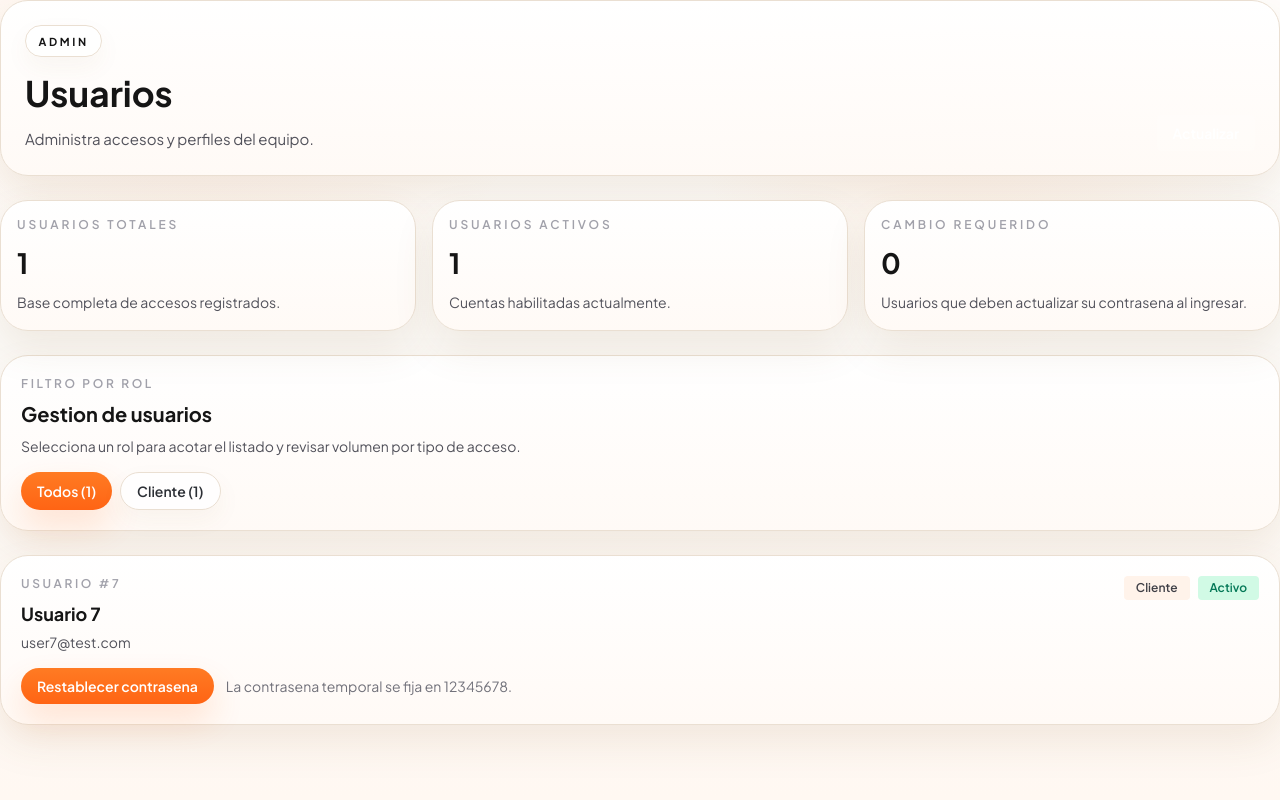
UsersPage › restablece la contrasena del usuario y actualiza la card al instante
Click the button "Restablecer contrasena" at (117, 686), box [21,668,214,704]
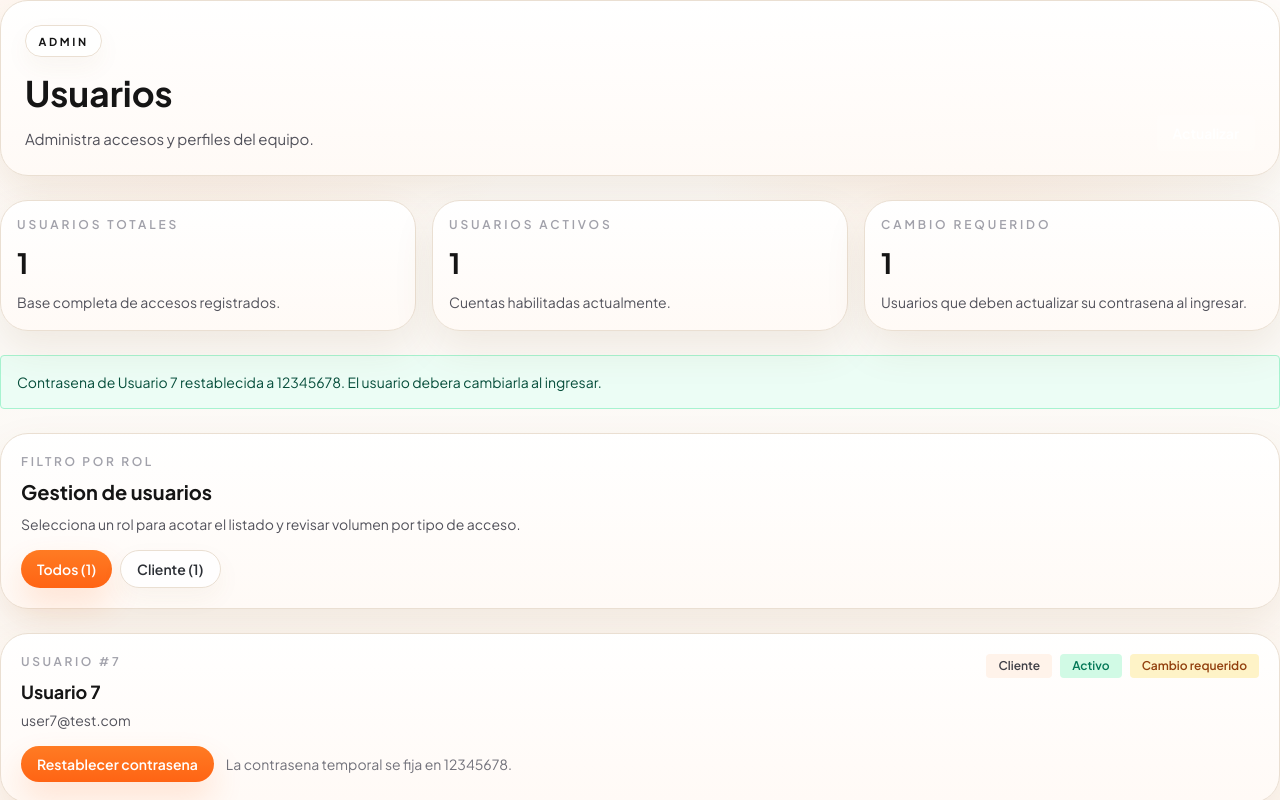
Result: the text "Cambio requerido" in the row of "Usuario #" is shown at [1142,658,1247,673]
Result: the text "Contrasena de Usuario 7 restablecida a 12345678. El usuario debera cambiarla al ingresar." is shown at [17,373,602,391]
